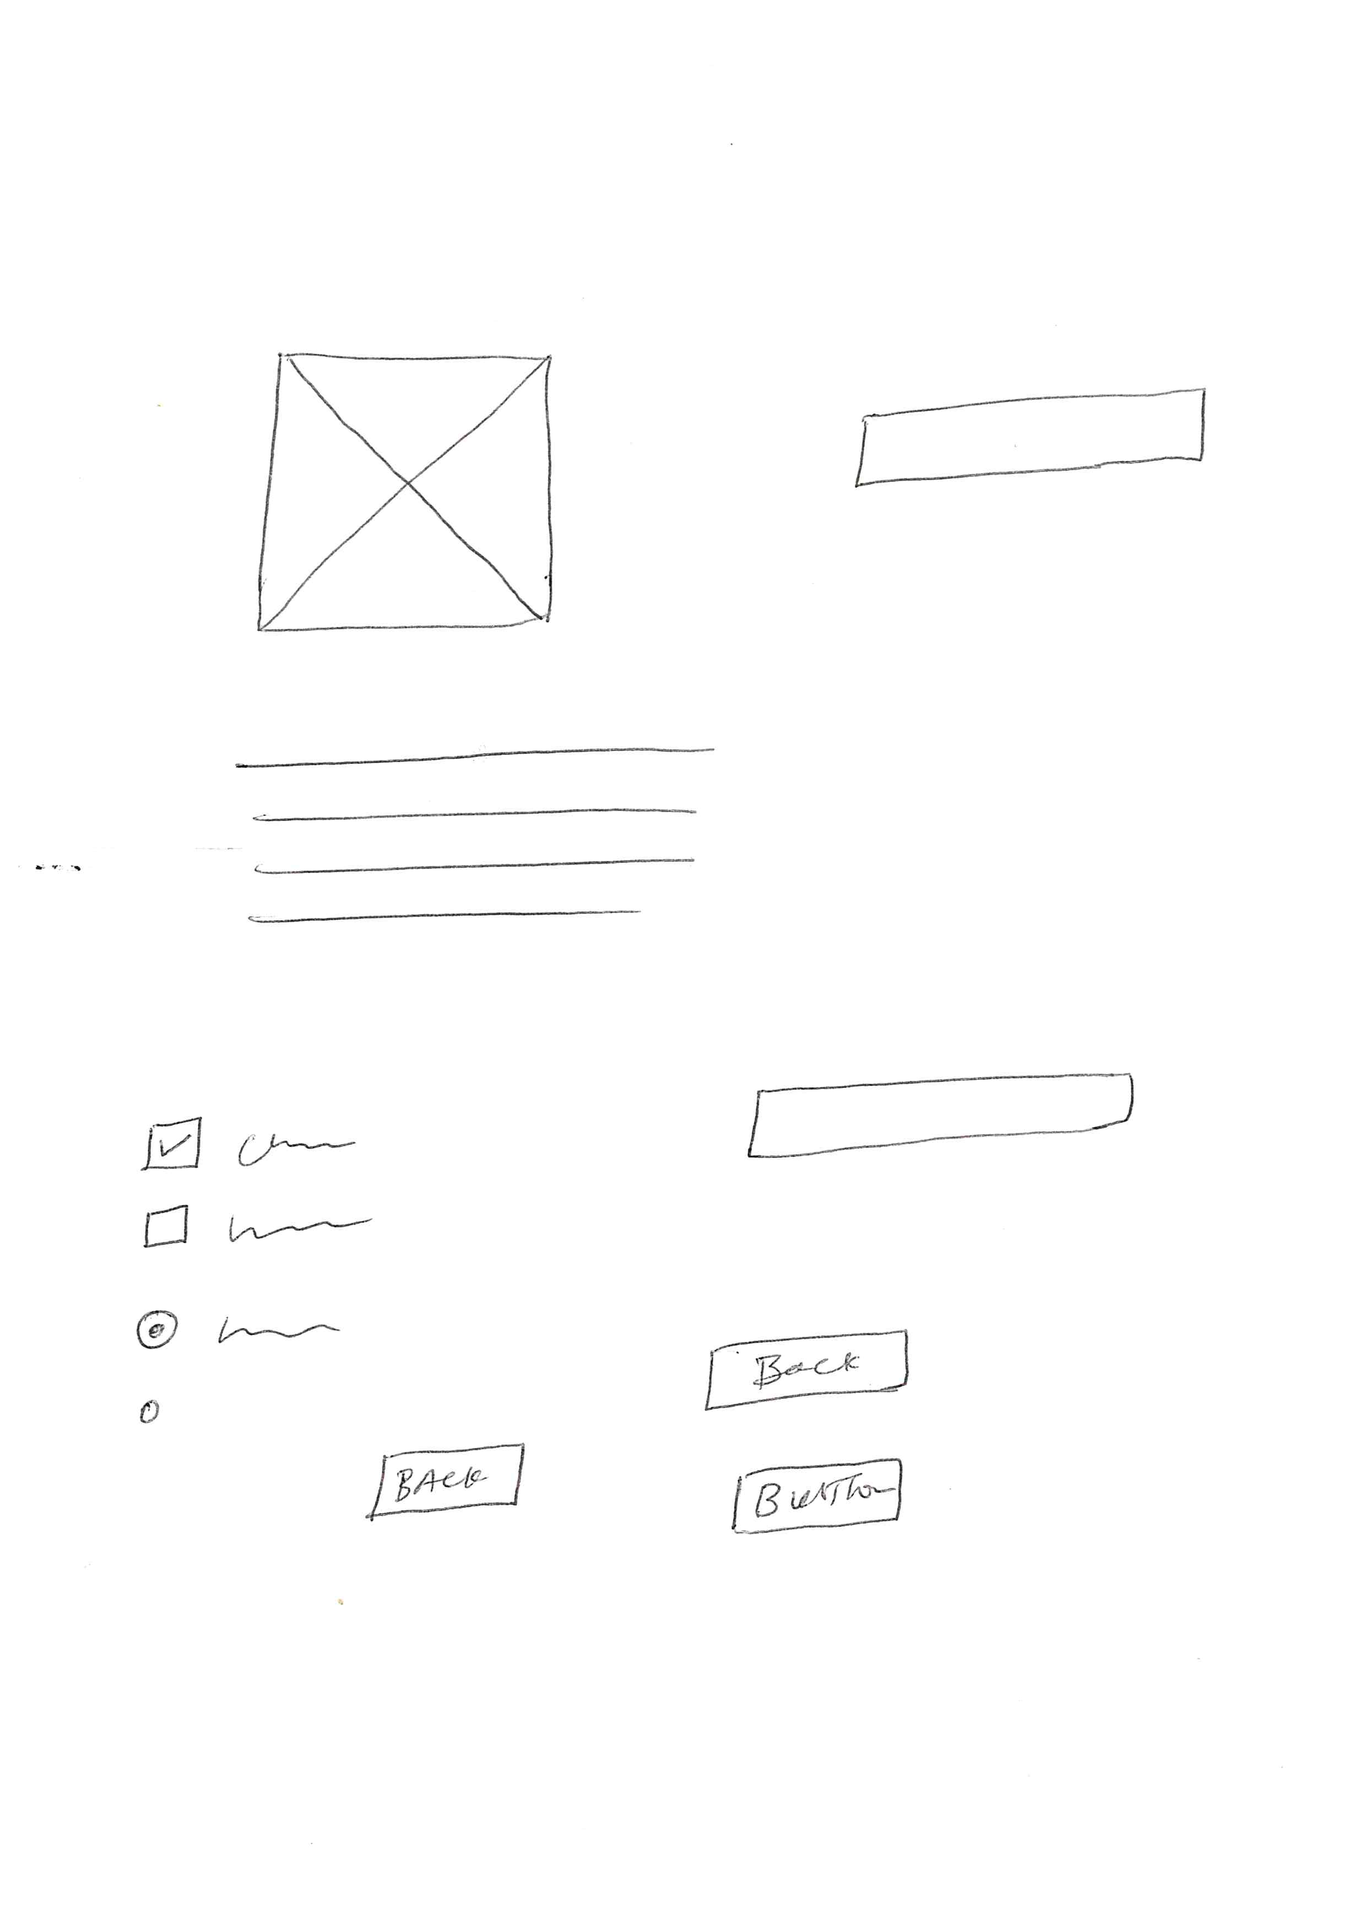Button: (707, 1326, 911, 1412), (727, 1456, 908, 1539), (362, 1439, 529, 1521)
Check Box: (139, 1110, 356, 1175)
Image: (251, 347, 560, 634)
Paragraph: (234, 742, 717, 923)
Radio Button: (135, 1306, 346, 1357)
Textbox: (849, 386, 1209, 492), (744, 1068, 1135, 1164)
